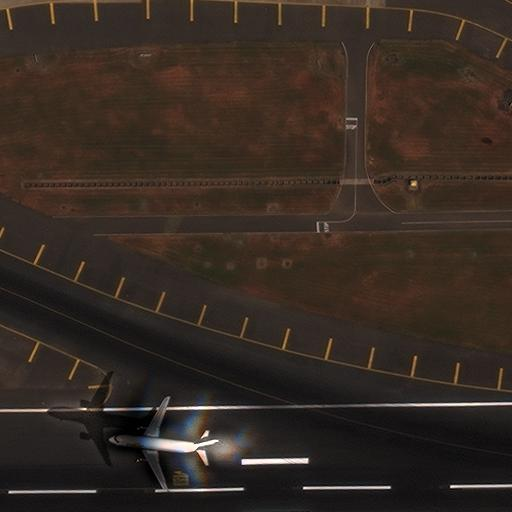Medium Civil Transport: (109, 397, 219, 492)
